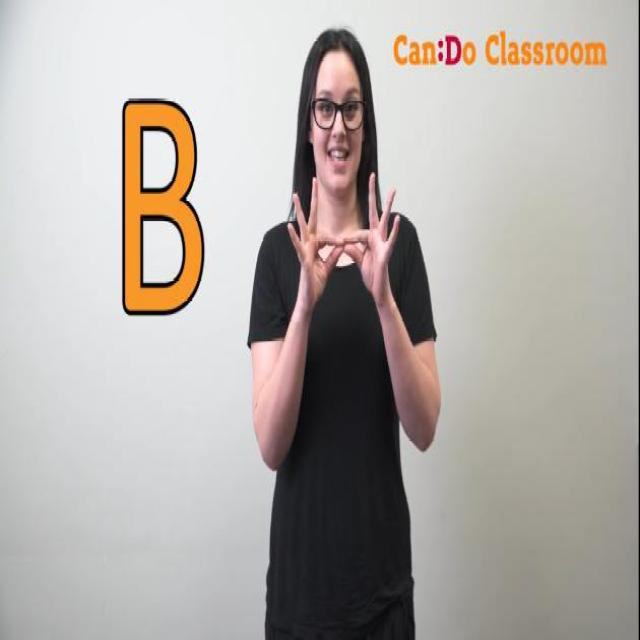B: (285, 141, 408, 323)
